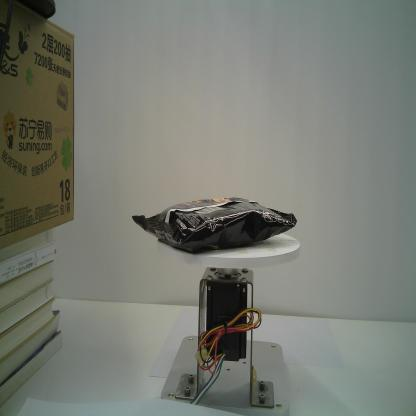Instant Noodles: (131, 196, 297, 255)
